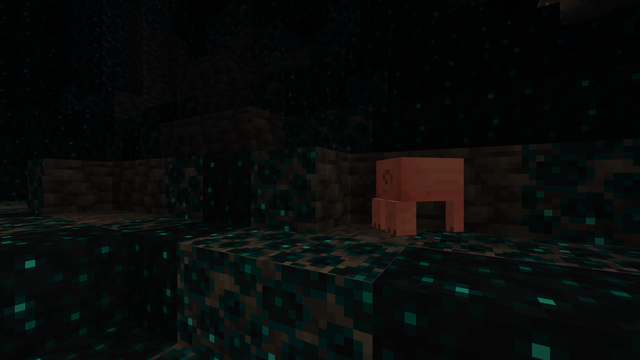cochons: (377, 153, 463, 239)
